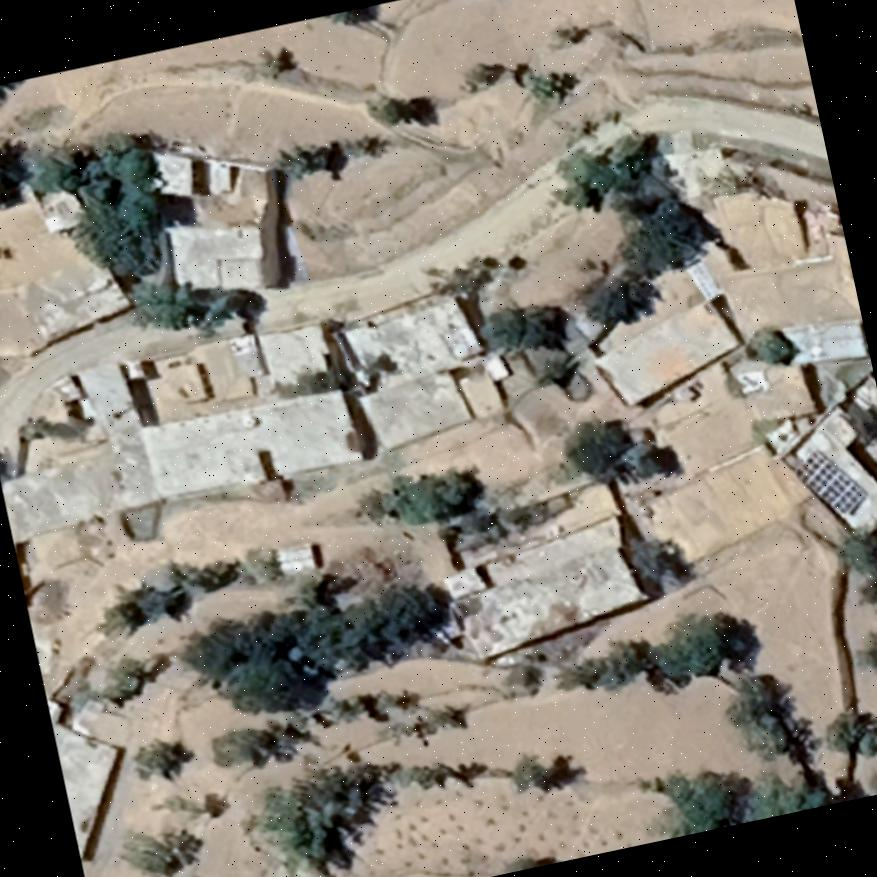Solarpanel: (791, 444, 873, 522)
